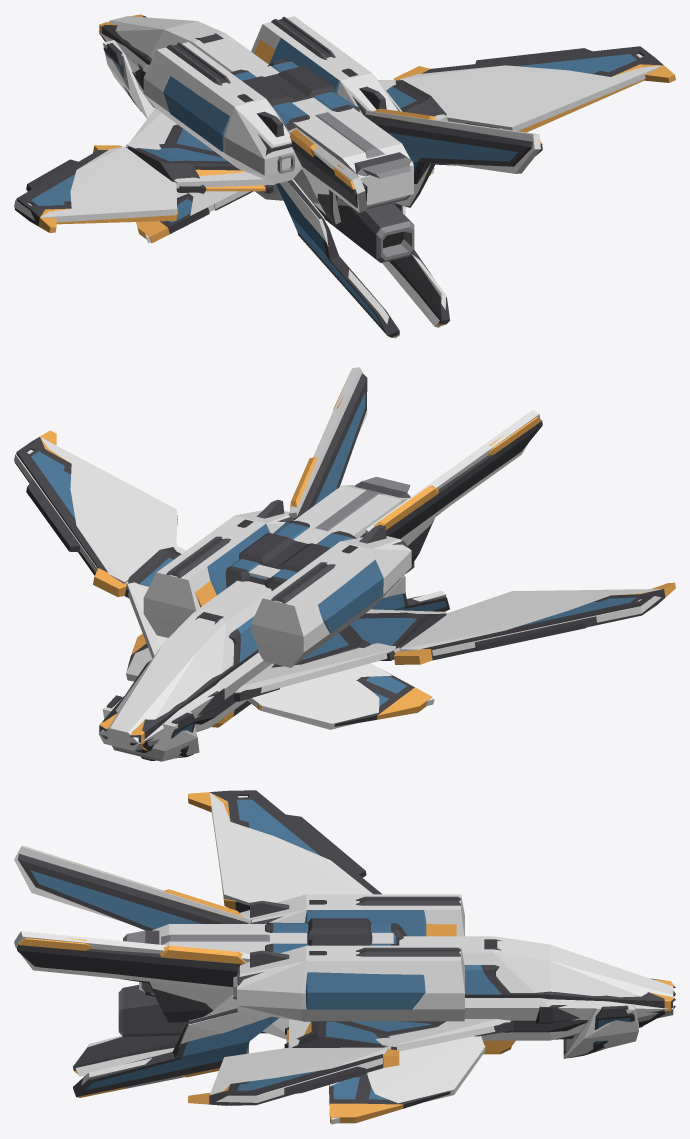
Rendered from SM_Ship_Fighter_02.fbx.
3 renders of one model, top to bottom at view 1: azimuth 30°, elevation 25°; view 2: azimuth 150°, elevation 25°; view 3: azimuth 270°, elevation 25°, orthographic.
Parts seen in each view (by area): view 1: SM_Ship_Fighter_02_ConvexHulls, SM_Ship_Fighter_02_LOD0; view 2: SM_Ship_Fighter_02_ConvexHulls, SM_Ship_Fighter_02_LOD0; view 3: SM_Ship_Fighter_02_ConvexHulls, SM_Ship_Fighter_02_LOD0.
Boxes of the visible parts, x1,y1,x2,y2 form: SM_Ship_Fighter_02_ConvexHulls: [14, 16, 662, 338]; SM_Ship_Fighter_02_LOD0: [14, 14, 675, 337]; SM_Ship_Fighter_02_ConvexHulls: [14, 367, 662, 761]; SM_Ship_Fighter_02_LOD0: [14, 373, 675, 760]; SM_Ship_Fighter_02_ConvexHulls: [14, 792, 673, 1124]; SM_Ship_Fighter_02_LOD0: [17, 790, 675, 1123].
Bounding box in the file's own units: 1376 × 1501 × 455.
1 material, 1 textured.
